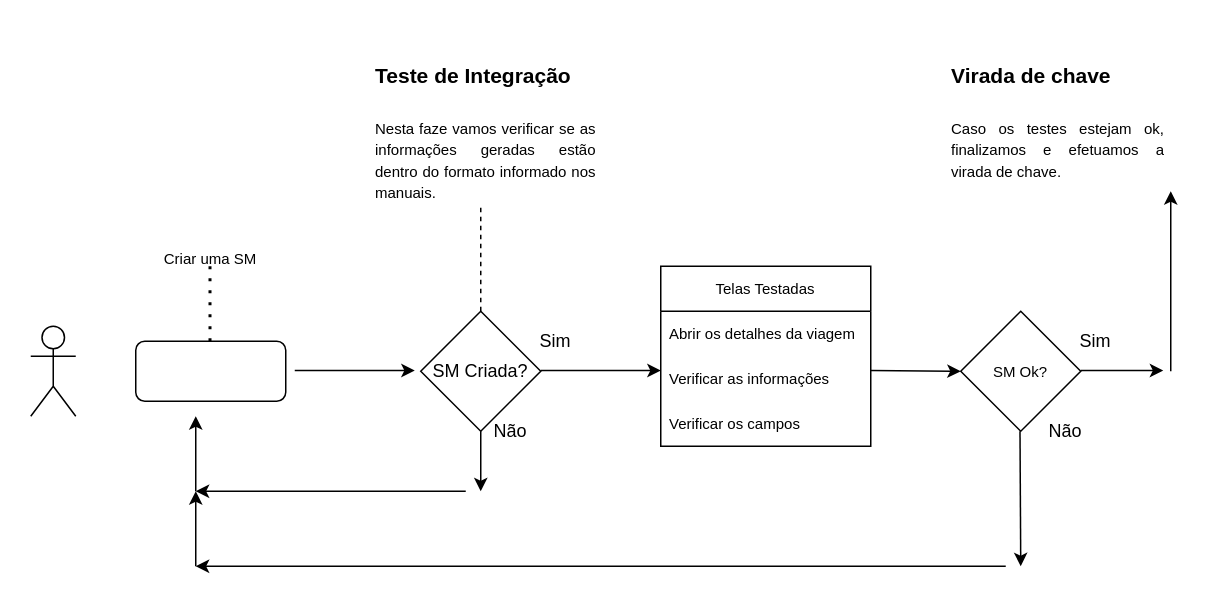
This 1209x605 diagram has some shape labels left out. Each missing label, with the centre of its shape:
"Cliente" goes at (52,370).
"Inicio dos testes" goes at (210,370).
